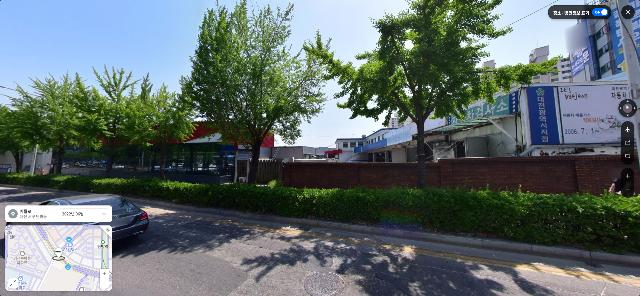other: (300, 0, 560, 191), (175, 0, 333, 185), (22, 69, 102, 176), (83, 63, 154, 179), (135, 81, 198, 183), (0, 93, 46, 174)
